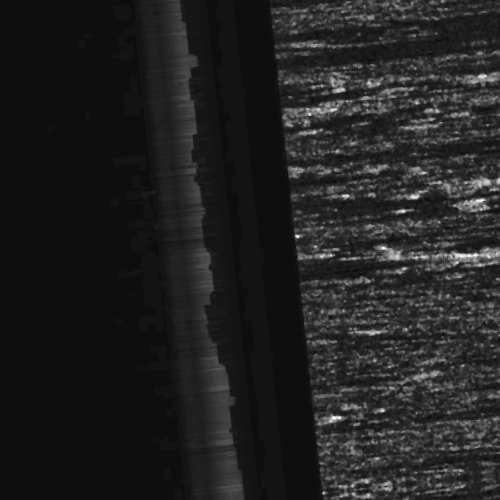object: (403, 261, 500, 286), (453, 469, 500, 484)
shadow: (311, 49, 500, 78), (368, 261, 455, 286), (356, 469, 500, 484), (336, 159, 500, 172), (331, 226, 500, 237), (351, 34, 500, 43), (426, 374, 500, 387), (425, 427, 500, 436), (475, 262, 500, 271)
